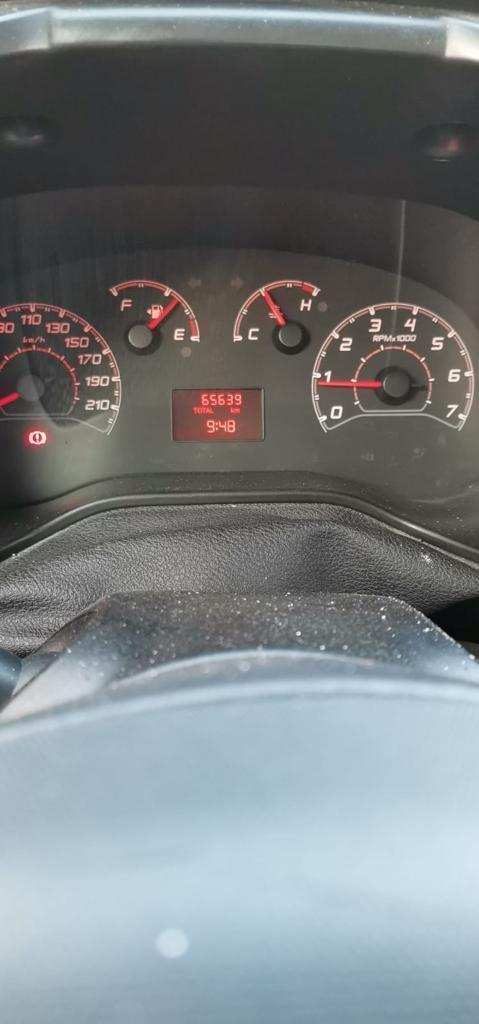3: (226, 393, 233, 405)
4: (218, 419, 226, 432)
5: (209, 394, 217, 405)
6: (201, 393, 209, 405), (217, 394, 225, 405)
8: (227, 419, 236, 433)
9: (206, 420, 214, 433), (234, 394, 241, 405)
X: (201, 406, 206, 414), (230, 406, 234, 415), (192, 406, 196, 414), (197, 406, 201, 414), (206, 407, 210, 415), (215, 421, 218, 431), (234, 408, 240, 413), (210, 407, 214, 414)
odometer: (168, 383, 267, 441)
